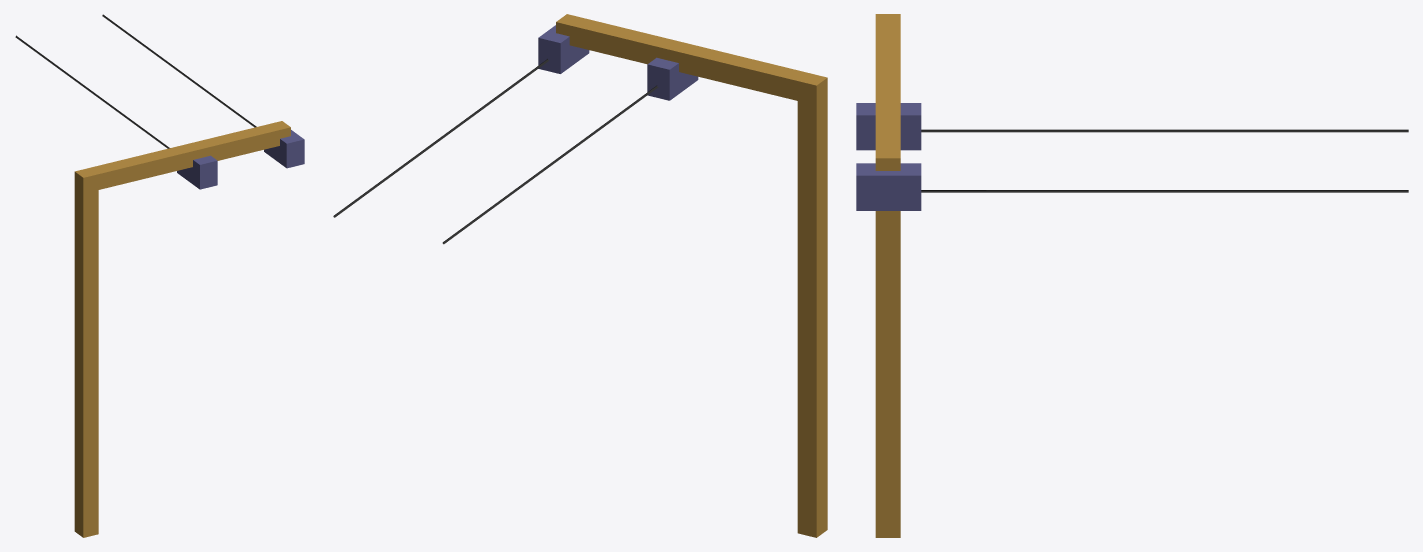
3 views of the same model, side by side, from view 1: azimuth 30°, elevation 25°; view 2: azimuth 150°, elevation 25°; view 3: azimuth 270°, elevation 25° (orthographic). The views are drawn at different scales.
Visible parts, largest first — view 1: WR92 | archived geometry, WR92 | line, light and sprite surfaces; view 2: WR92 | archived geometry, WR92 | line, light and sprite surfaces; view 3: WR92 | archived geometry, WR92 | line, light and sprite surfaces.
Part boxes in pixels (x1,y1,x2,y2): WR92 | archived geometry: (74,121,304,537); WR92 | line, light and sprite surfaces: (15,14,256,148); WR92 | archived geometry: (538,14,827,537); WR92 | line, light and sprite surfaces: (333,59,658,244); WR92 | archived geometry: (856,14,921,537); WR92 | line, light and sprite surfaces: (921,129,1408,192).
Size of the model in its own units: 10.58 by 17 by 16.58.
